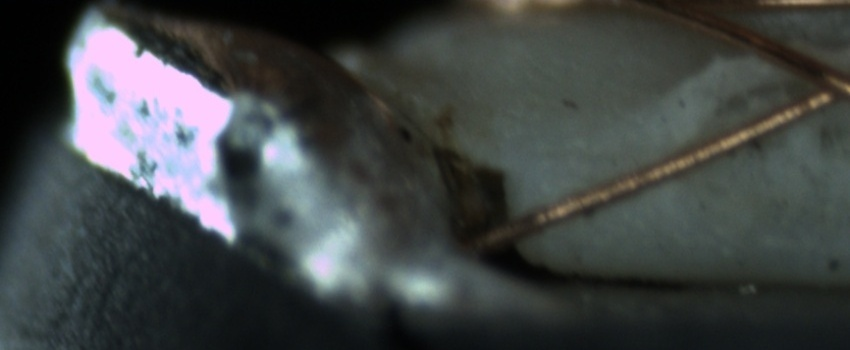CL: (764, 46, 848, 124)
DL: (533, 126, 659, 187)
